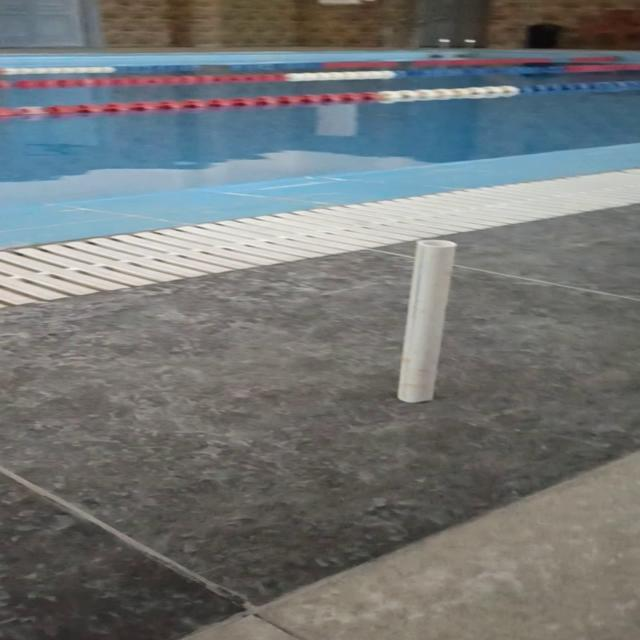Cube: (395, 239, 457, 403)
